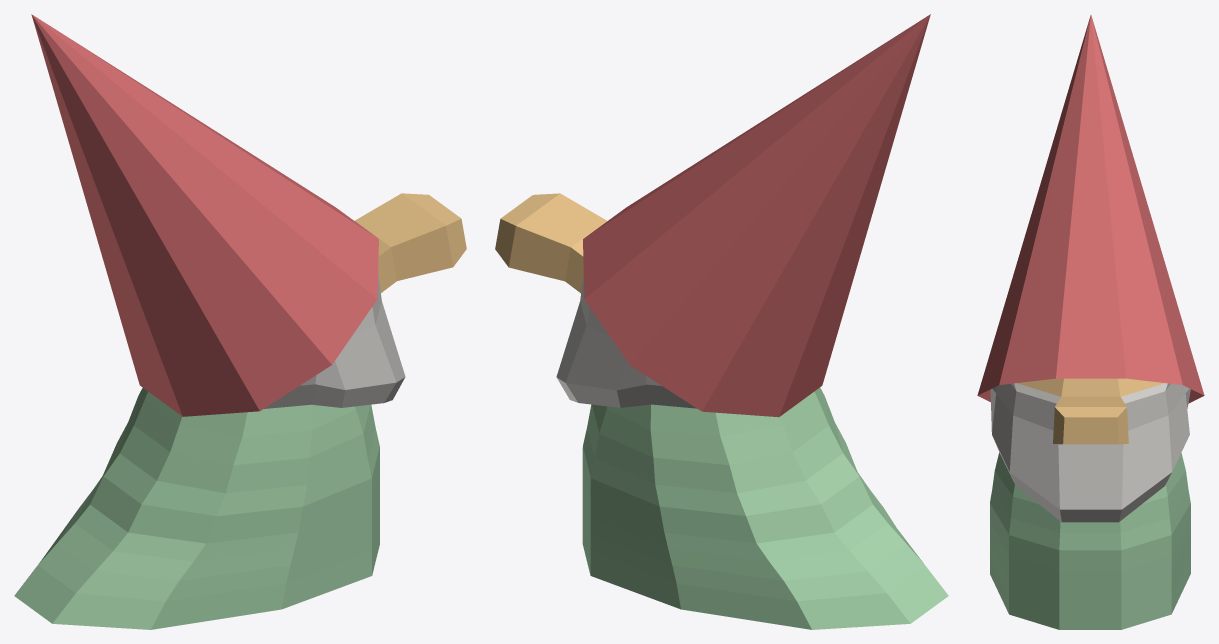
Rendered from Gnome.fbx.
3 renders of one model, left to right at view 1: azimuth 30°, elevation 25°; view 2: azimuth 150°, elevation 25°; view 3: azimuth 270°, elevation 25°, orthographic. The views are drawn at different scales.
Parts seen in each view (by area): view 1: Gnome; view 2: Gnome; view 3: Gnome.
Part boxes in pixels (bbox=[...]): Gnome: bbox=[14, 14, 466, 629]; Gnome: bbox=[495, 14, 948, 629]; Gnome: bbox=[977, 15, 1204, 629].
Size of the model in its own units: 391 by 533 by 226.
